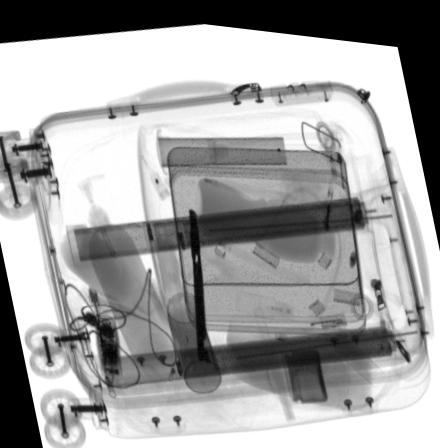Pliers: (187, 202, 205, 358)
